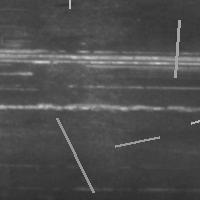scratches: (1, 49, 199, 75), (52, 113, 98, 197), (1, 98, 199, 116), (110, 132, 164, 151), (170, 15, 184, 82), (186, 108, 200, 128), (63, 0, 75, 13)
